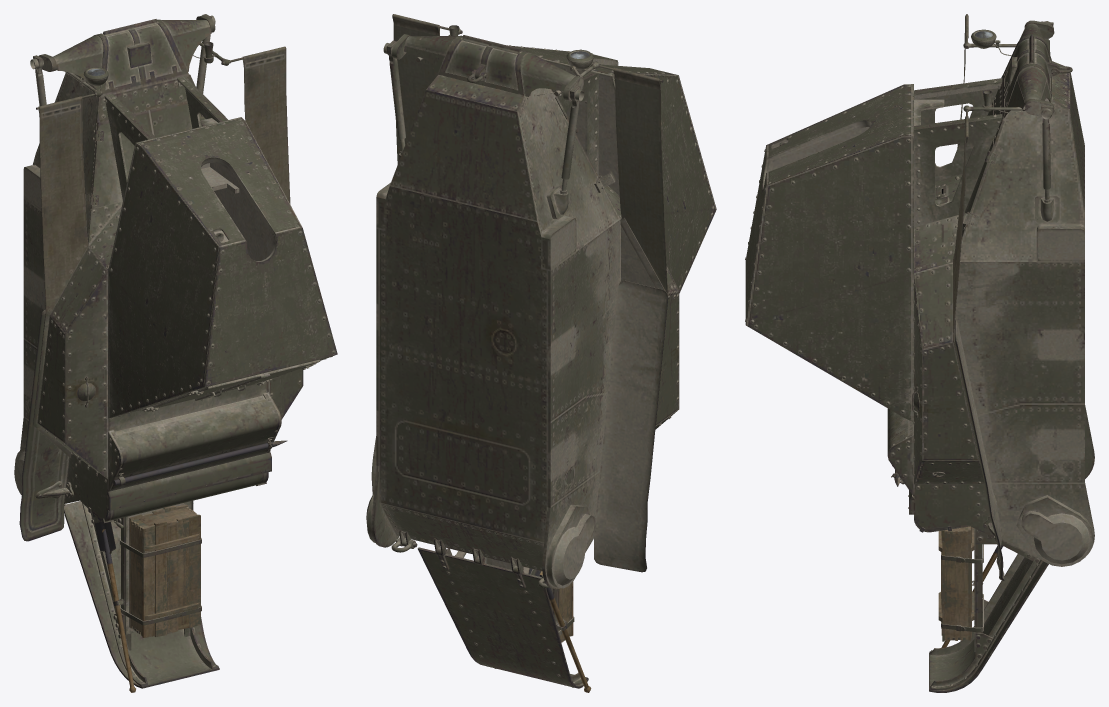
Rendered from Hull.glb.
The picture shows the model from 3 angles, left to right: view 1: azimuth 30°, elevation 25°; view 2: azimuth 150°, elevation 25°; view 3: azimuth 270°, elevation 25°; orthographic projection. The views are drawn at different scales.
Visible parts, largest first — view 1: set_0_group_0; view 2: set_0_group_0; view 3: set_0_group_0.
Boxes of the visible parts, x1,y1,x2,y2 form: set_0_group_0: (14,14,337,692); set_0_group_0: (366,14,716,692); set_0_group_0: (745,14,1094,692).
Bounding box in the file's own units: 1.75 × 4.14 × 2.08.
Materials: 1 (1 with a texture image).
